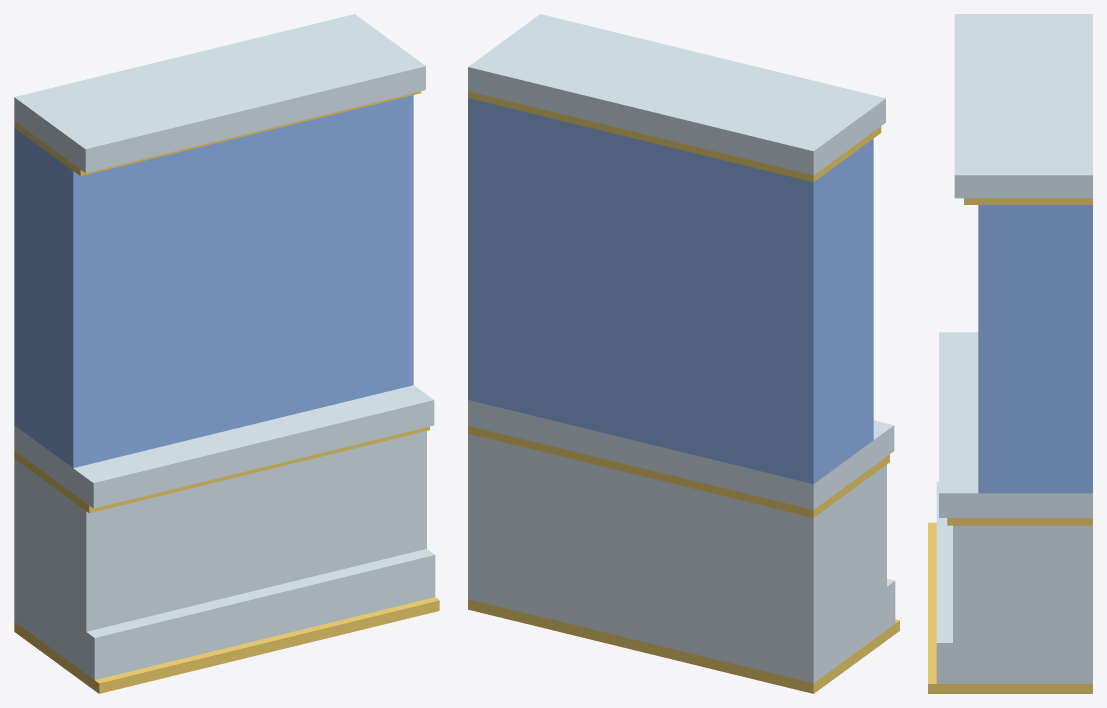
File: stage4_2_wall1.fbx
The picture shows the model from 3 angles, left to right: view 1: azimuth 30°, elevation 25°; view 2: azimuth 150°, elevation 25°; view 3: azimuth 270°, elevation 25°; orthographic projection. The views are drawn at different scales.
Visible parts, largest first — view 1: wall1; view 2: wall1; view 3: wall1.
Part boxes in pixels (box(x1,y1,x2,y2)): wall1: box(14, 14, 439, 693); wall1: box(468, 14, 899, 693); wall1: box(928, 14, 1092, 693).
Bounding box in the file's own units: 200 × 300 × 86.45.
